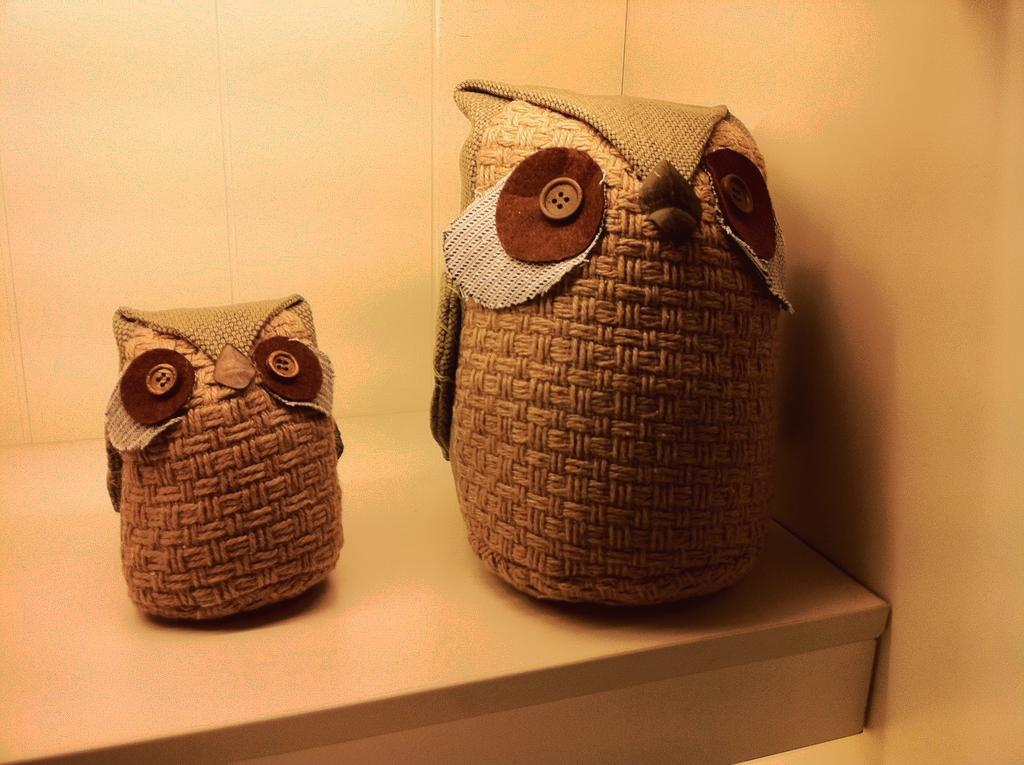Owl: (426, 75, 791, 614), (102, 290, 348, 625)
